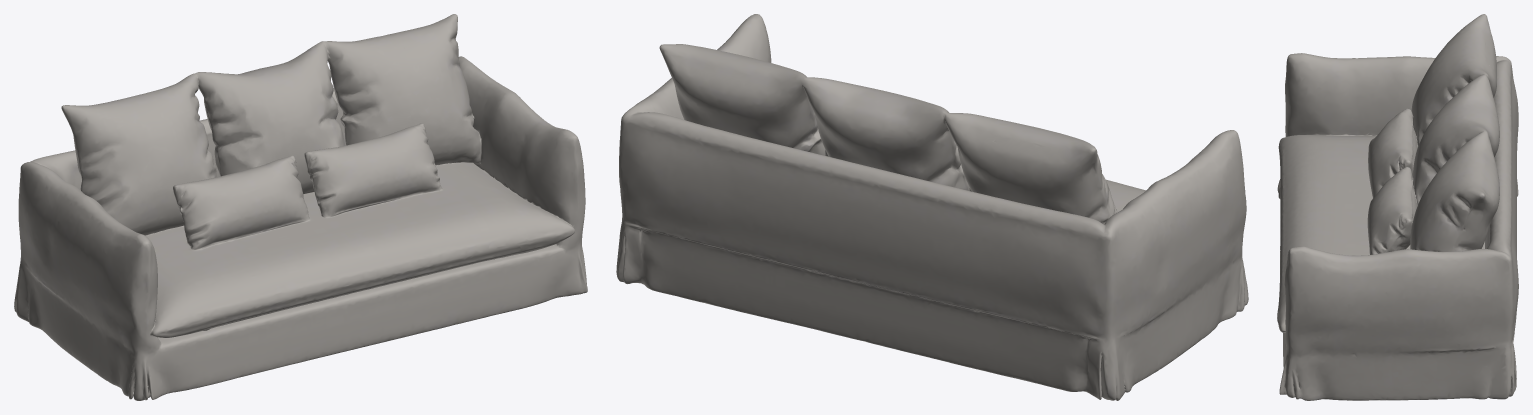
The model's file is contemporary_sofa_pphv6k.glb.
3 renders of one model, left to right at view 1: azimuth 30°, elevation 25°; view 2: azimuth 150°, elevation 25°; view 3: azimuth 270°, elevation 25°, orthographic. The views are drawn at different scales.
Visible parts, largest first — view 1: world; view 2: world; view 3: world.
Part boxes in pixels (x1=…): world: x1=14, y1=14, x2=587, y2=400; world: x1=616, y1=14, x2=1248, y2=400; world: x1=1277, y1=14, x2=1518, y2=400.
Size of the model in its own units: 1 by 0.4401 by 0.4854.
1 material, 1 textured.
